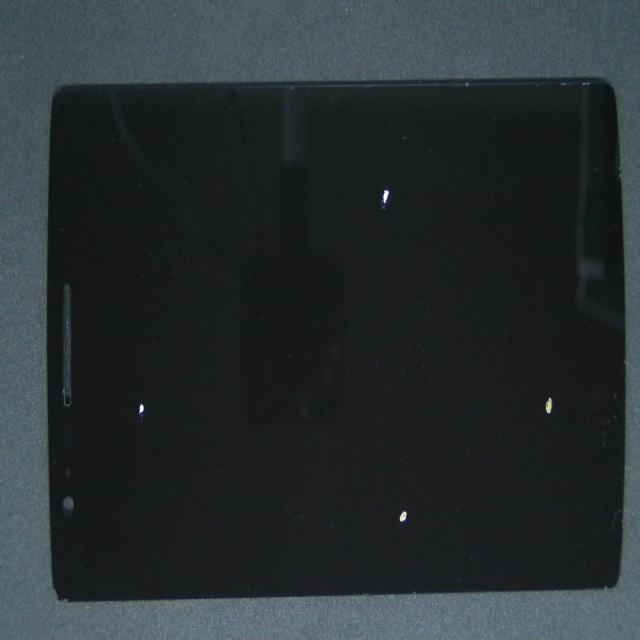stain: (218, 221, 604, 640), (290, 157, 640, 566), (156, 120, 571, 327), (41, 274, 211, 639)
